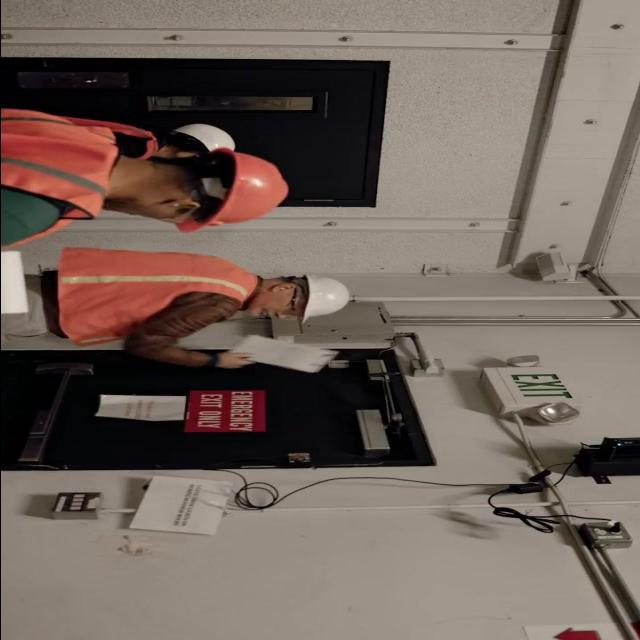helmet: (184, 150, 296, 237), (296, 269, 351, 325), (172, 122, 238, 150)
jacket: (46, 248, 264, 354), (6, 105, 130, 246)
